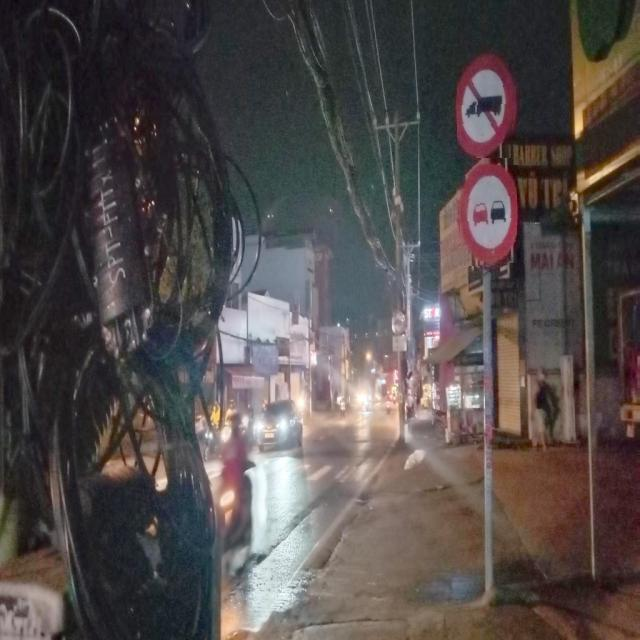106-cam-oto-tai: (392, 308, 404, 334)
125-cam-vuot: (457, 165, 517, 267)
